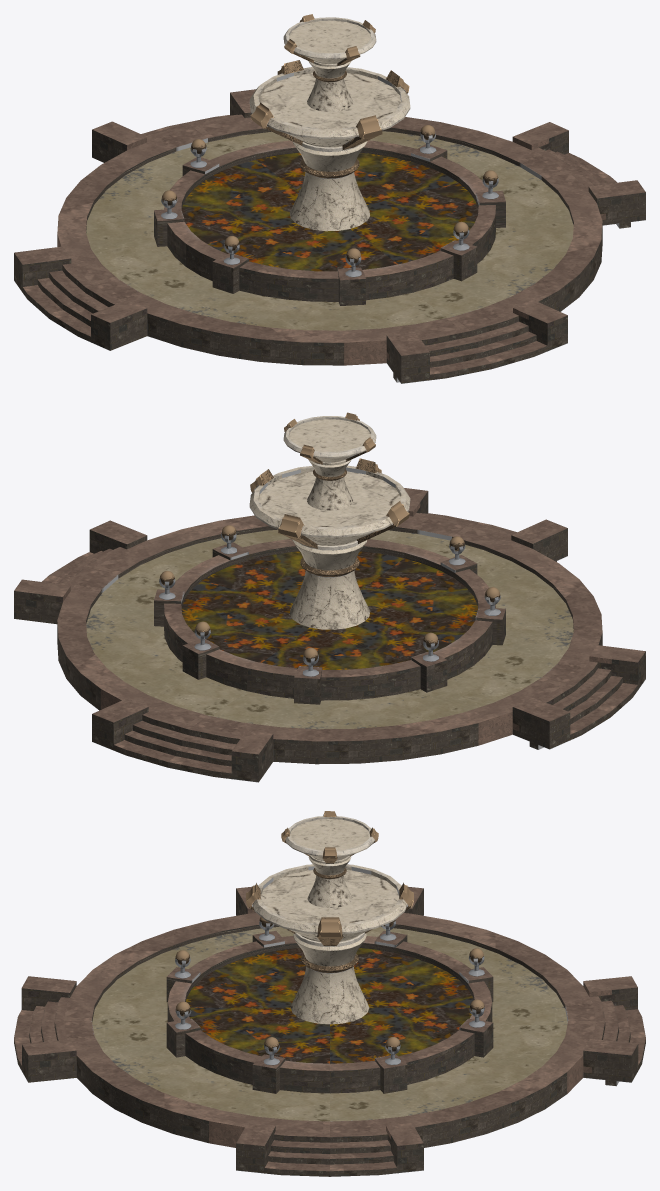
Rendered from Fountain.fbx.
3 views of the same model, one above another, from view 1: azimuth 30°, elevation 25°; view 2: azimuth 150°, elevation 25°; view 3: azimuth 270°, elevation 25° (orthographic). The views are drawn at different scales.
Visible parts, largest first — view 1: pCylinder20, pCylinder21, pCylinder23, pCylinder22; view 2: pCylinder23, pCylinder22, pCylinder20, pCylinder21; view 3: pCylinder22, pCylinder21, pCylinder20, pCylinder23.
Part boxes in pixels (x1,y1,x2,y2): pCylinder20: (49, 38, 491, 383); pCylinder21: (330, 22, 645, 368); pCylinder23: (14, 15, 329, 318); pCylinder22: (168, 14, 609, 204); pCylinder23: (168, 436, 610, 782); pCylinder22: (14, 420, 329, 767); pCylinder20: (330, 413, 645, 716); pCylinder21: (50, 412, 491, 603); pCylinder22: (329, 830, 645, 1176); pCylinder21: (14, 829, 330, 1176); pCylinder20: (14, 811, 330, 1037); pCylinder23: (330, 811, 645, 1037).
Size of the model in its own units: 340 by 130 by 340.
